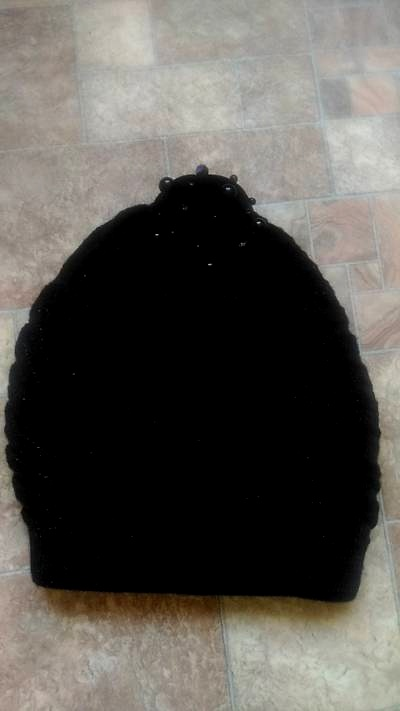Hat: (13, 146, 388, 622)
